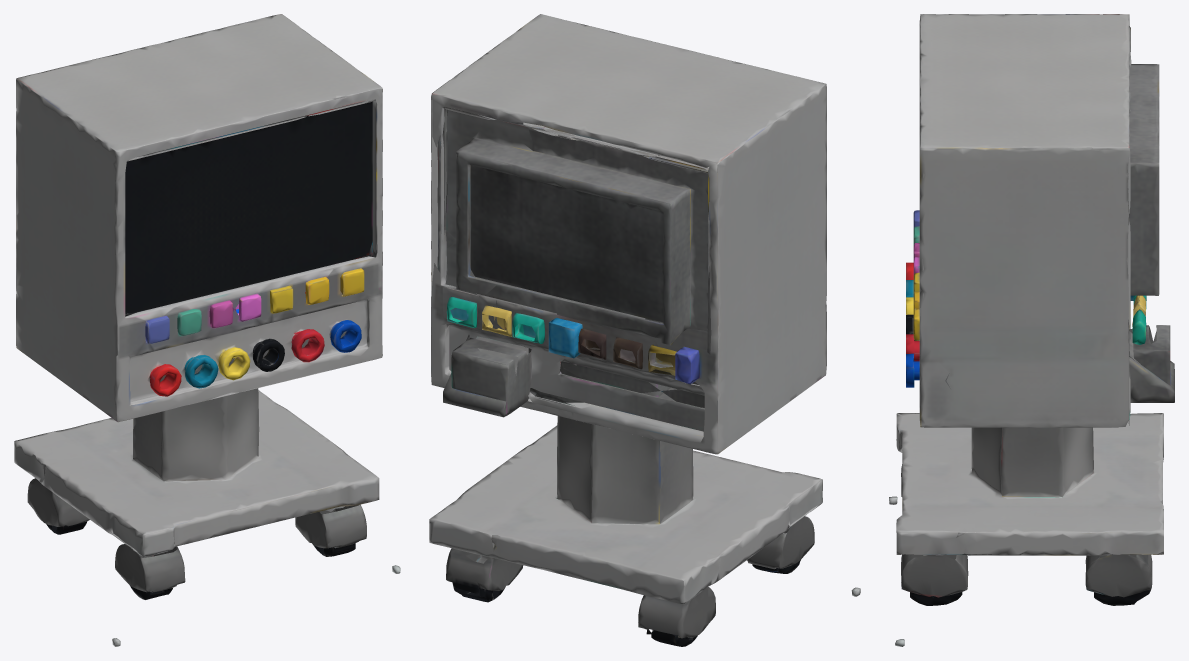
Rendered from ecg-cart.glb.
The picture shows the model from 3 angles, left to right: view 1: azimuth 30°, elevation 25°; view 2: azimuth 150°, elevation 25°; view 3: azimuth 270°, elevation 25°; orthographic projection. The views are drawn at different scales.
Parts seen in each view (by area): view 1: geometry_0; view 2: geometry_0; view 3: geometry_0.
Boxes of the visible parts, box(x1,y1,x2,y2) form: geometry_0: box(14, 14, 400, 646); geometry_0: box(429, 14, 860, 646); geometry_0: box(889, 14, 1174, 646).
Bounding box in the file's own units: 0.6295 × 1 × 0.5208.
1 material, 1 textured.
